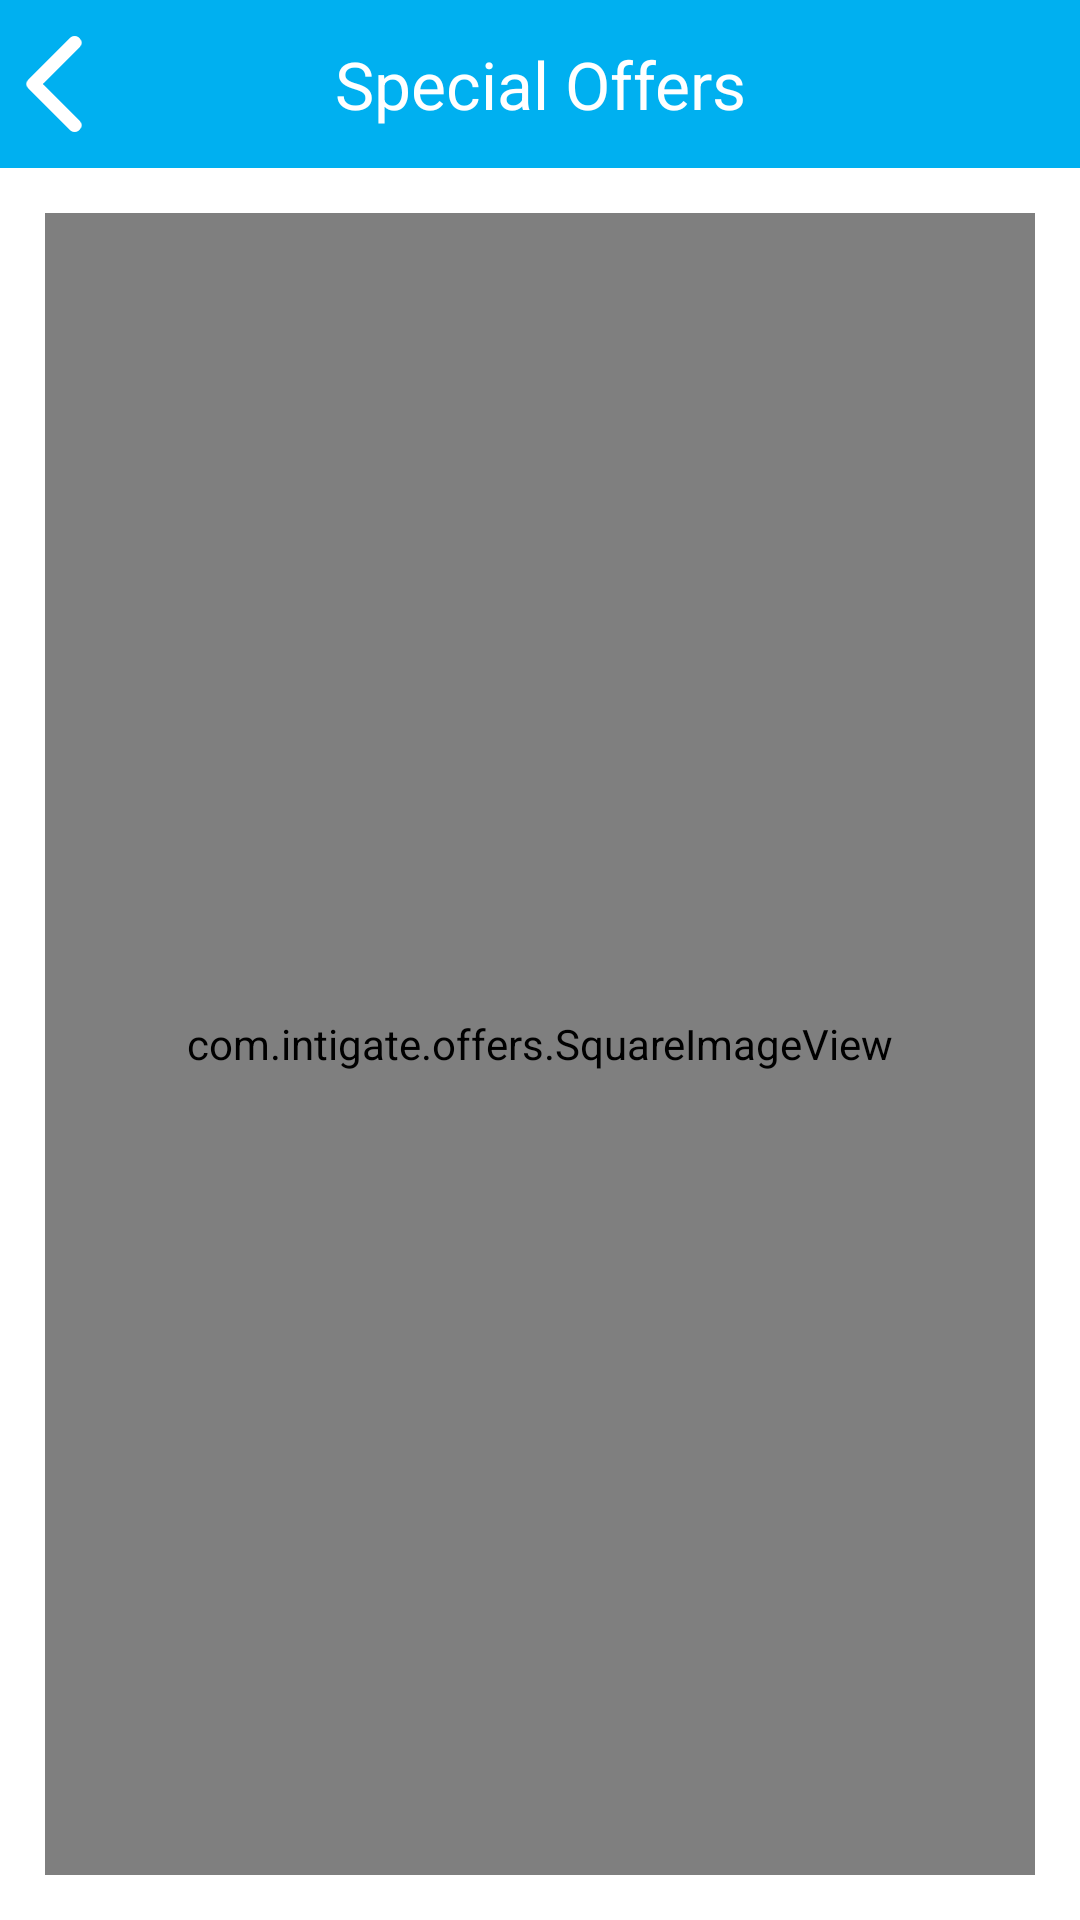

Icon bounding boxes for this 1080x1920 phone screenshot, format (x1, y1, x2, y2):
back: (26, 36, 82, 132)
